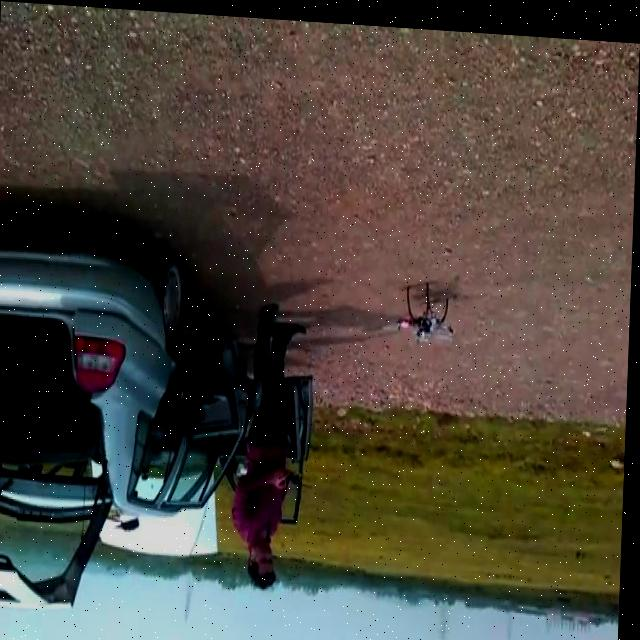drone: (390, 272, 460, 345)
